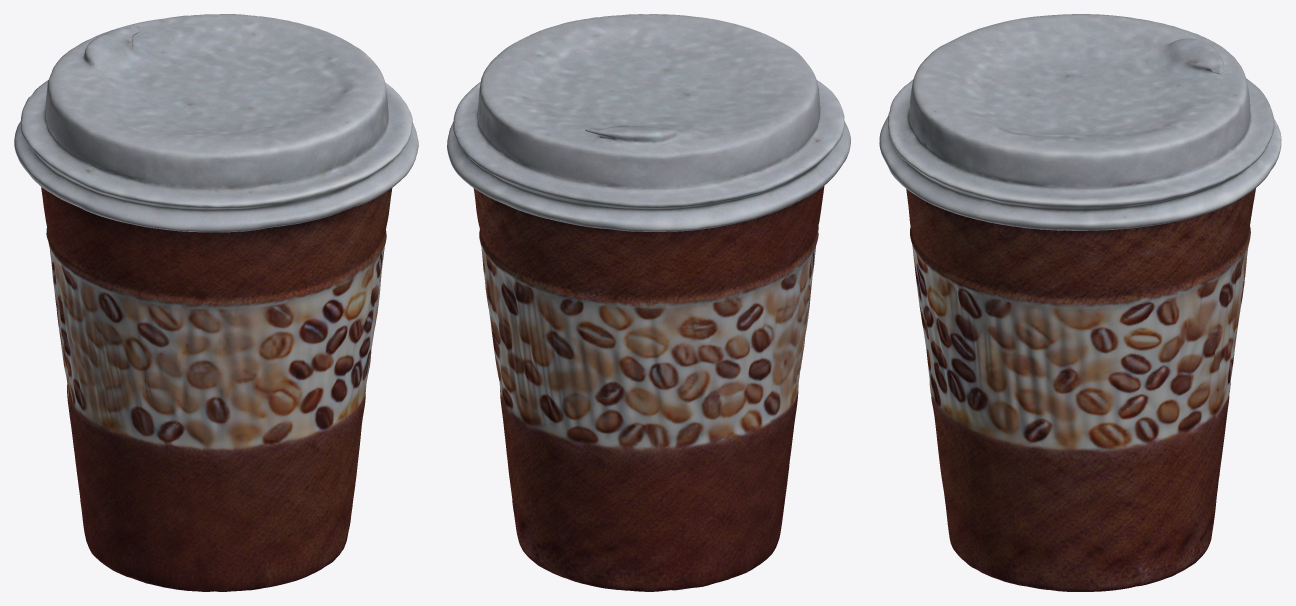
The model's file is coffee.glb.
3 views of the same model, side by side, from view 1: azimuth 30°, elevation 25°; view 2: azimuth 150°, elevation 25°; view 3: azimuth 270°, elevation 25° (orthographic).
Visible parts, largest first — view 1: high_poly; view 2: high_poly; view 3: high_poly.
Part boxes in pixels (bbox=[...]): high_poly: bbox=[14, 14, 418, 591]; high_poly: bbox=[447, 14, 850, 591]; high_poly: bbox=[879, 14, 1281, 591].
Bounding box in the file's own units: 0.7826 × 1 × 0.7822.
1 material, 1 textured.
